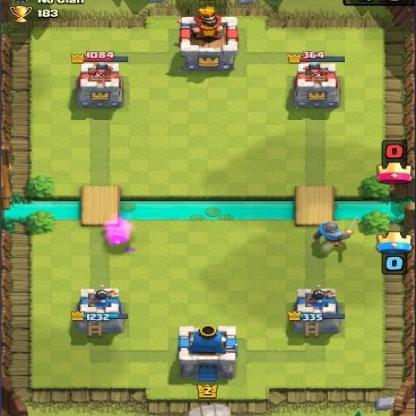ally_knight: (311, 215, 362, 249)
